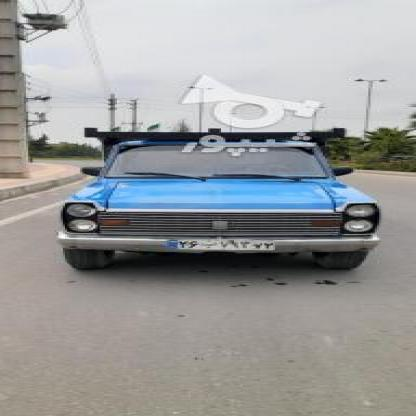licence: (162, 237, 278, 253)
